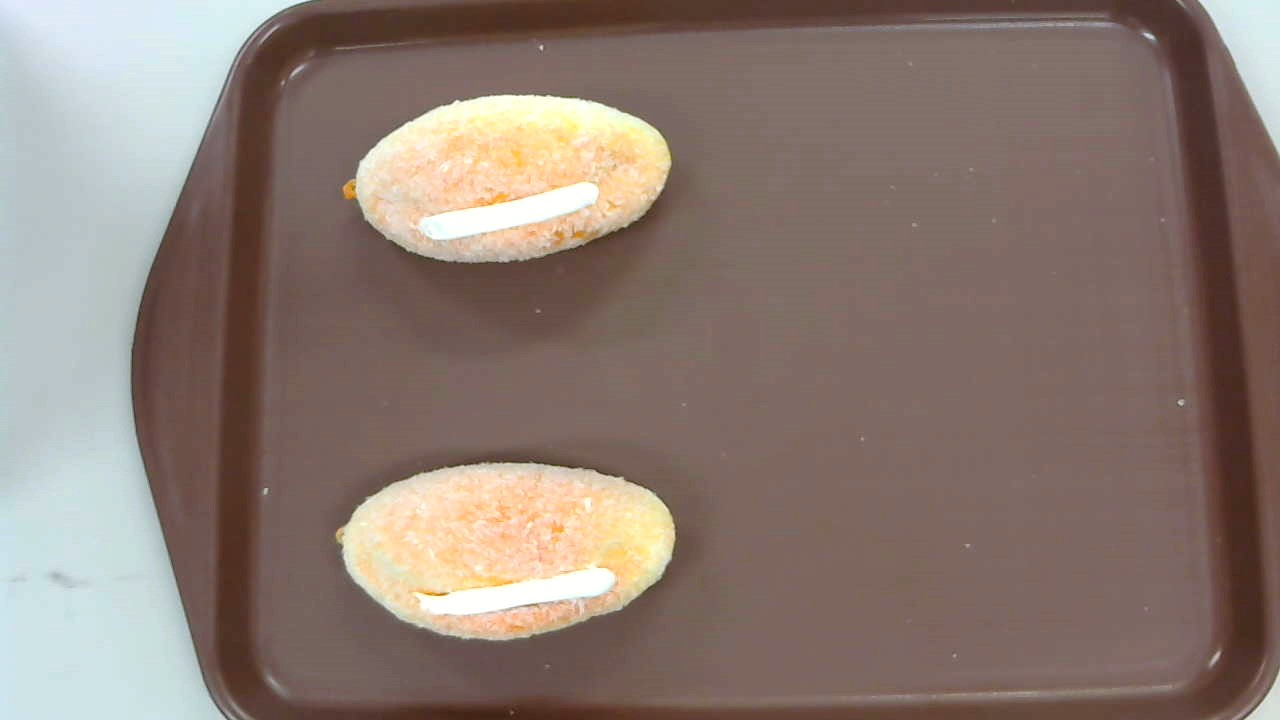coconut: (336, 461, 676, 641), (342, 90, 674, 265)
